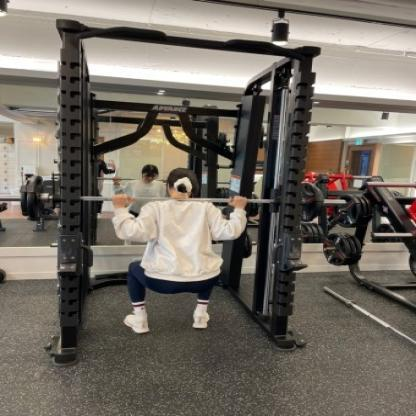smith machine: (30, 19, 322, 367)
